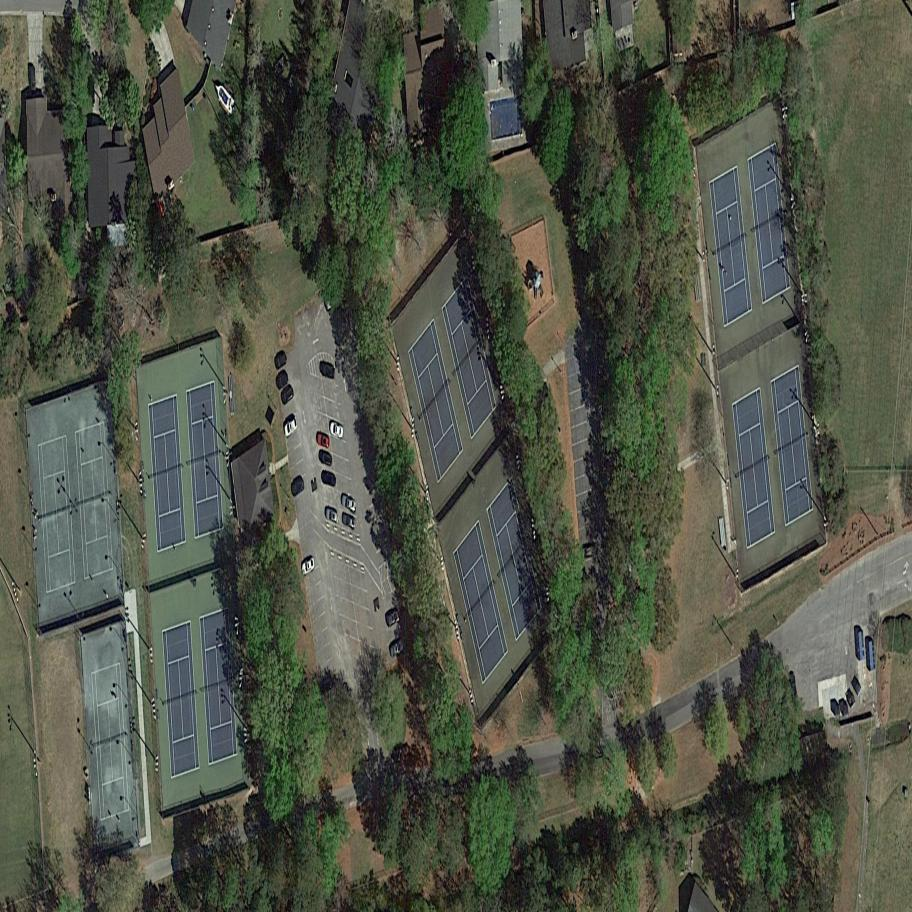ship: (206, 78, 241, 118)
small-vehicle: (315, 468, 343, 493), (275, 382, 300, 407), (270, 369, 295, 394), (278, 415, 303, 439), (295, 554, 320, 578), (386, 637, 410, 661), (269, 350, 293, 374), (286, 477, 310, 499), (381, 608, 405, 630), (325, 419, 349, 440), (337, 493, 361, 514), (337, 512, 360, 532), (321, 506, 342, 525), (315, 450, 336, 468), (319, 360, 336, 382), (316, 431, 329, 449)
